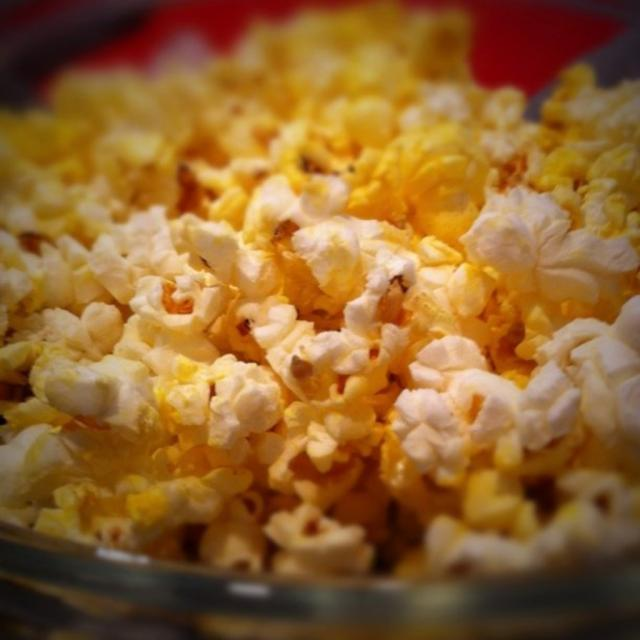Popcorn: (4, 5, 639, 589)
